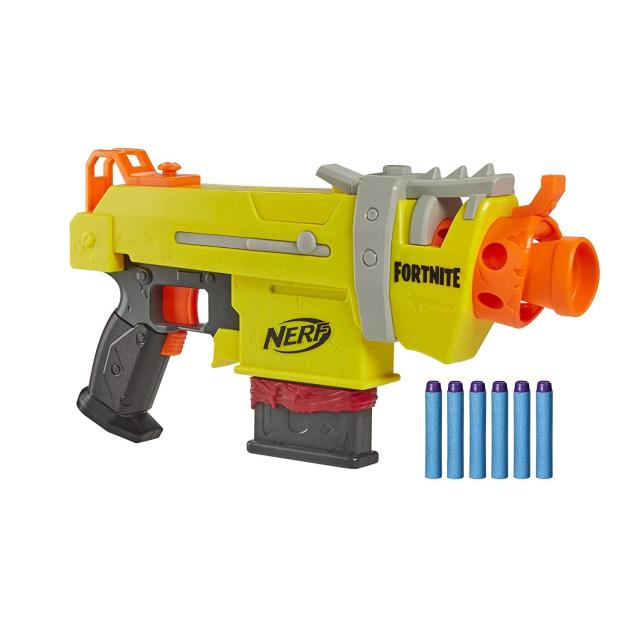weapon: (54, 142, 608, 475)
